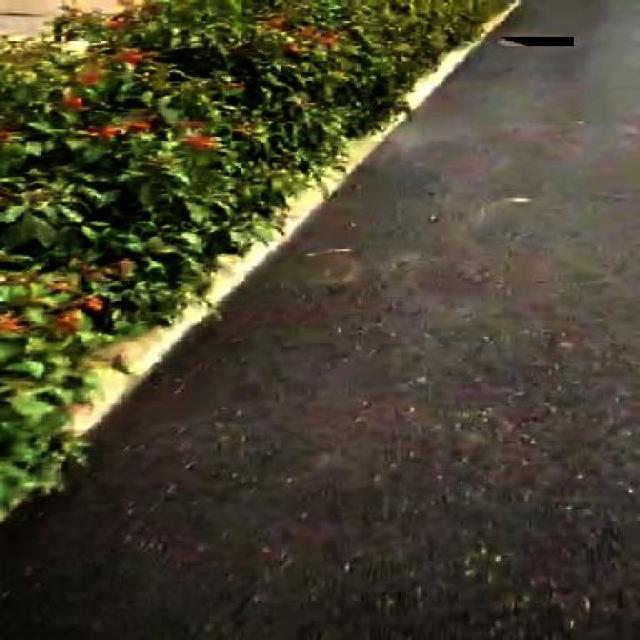Manhole: (498, 37, 574, 46)
